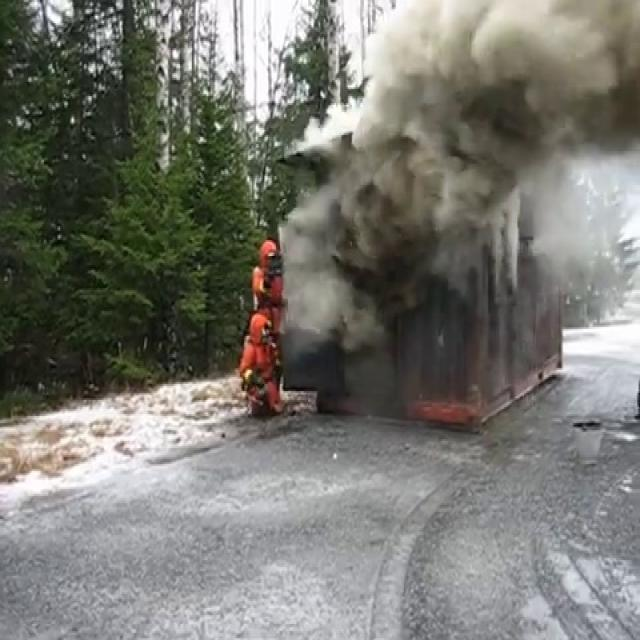Smoke: (297, 1, 640, 420)
